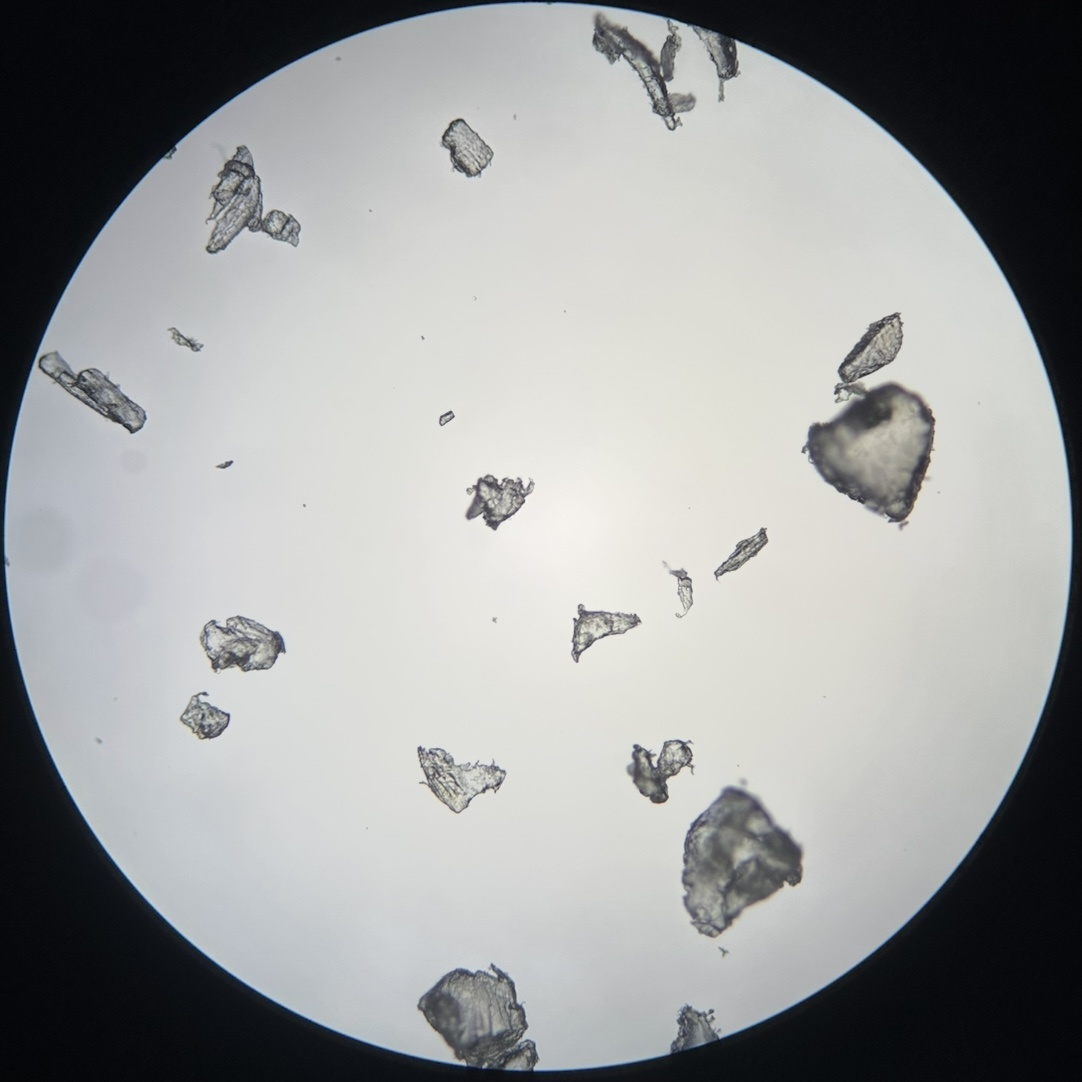microplastic: (801, 383, 935, 530), (682, 786, 803, 938), (418, 964, 540, 1070), (593, 13, 696, 130), (205, 145, 301, 253), (38, 351, 147, 433), (834, 314, 903, 405), (417, 746, 506, 813), (200, 615, 286, 672), (626, 740, 695, 803), (687, 22, 739, 103), (572, 605, 641, 662), (466, 475, 535, 530), (441, 120, 494, 177), (715, 528, 769, 582), (670, 1005, 722, 1053), (181, 692, 230, 741), (661, 562, 693, 618), (169, 328, 203, 352), (439, 411, 454, 427), (163, 146, 177, 160), (216, 461, 234, 469)
